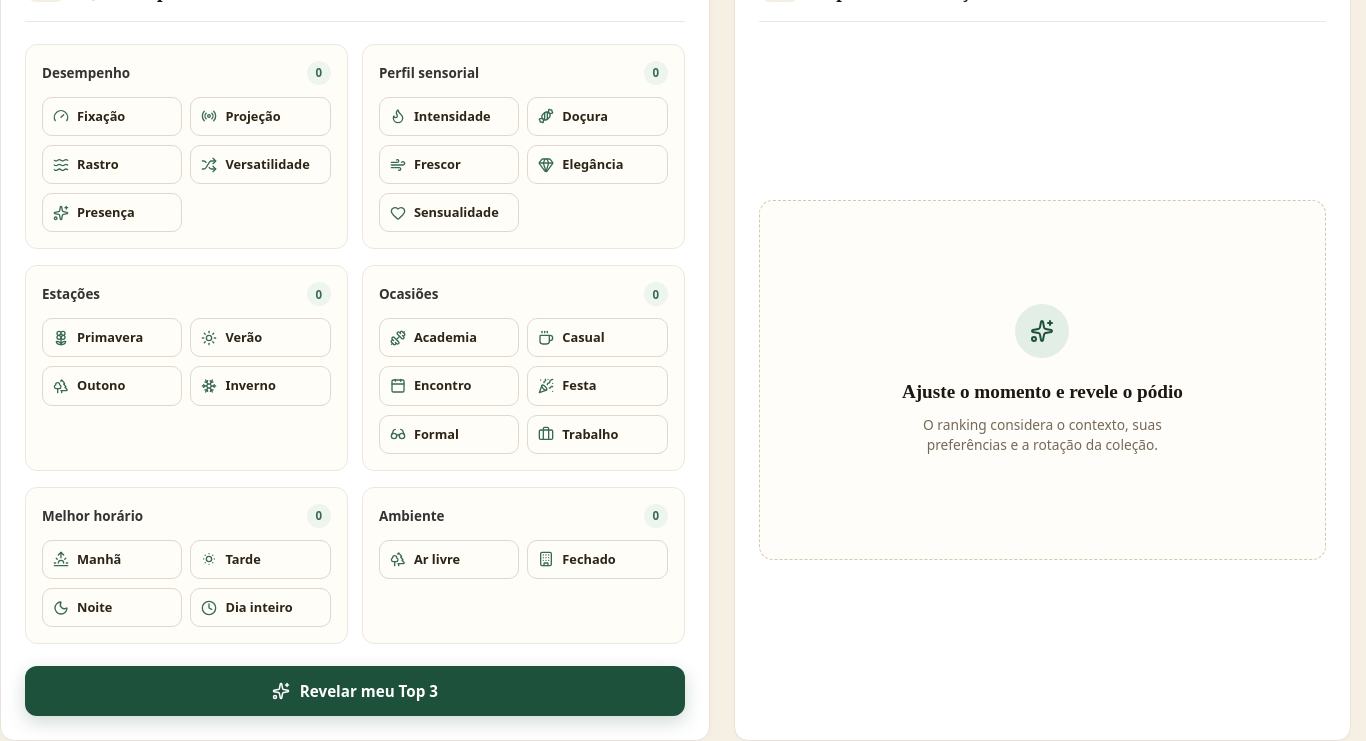
Test: RecommenderView › orients the user when automatic context is active without a successful update
The width and height of the screenshot is (1366, 741).
(page scrolled)
Click the button "Revelar meu Top 3" at coordinates (355, 691), box [25,666,685,716]
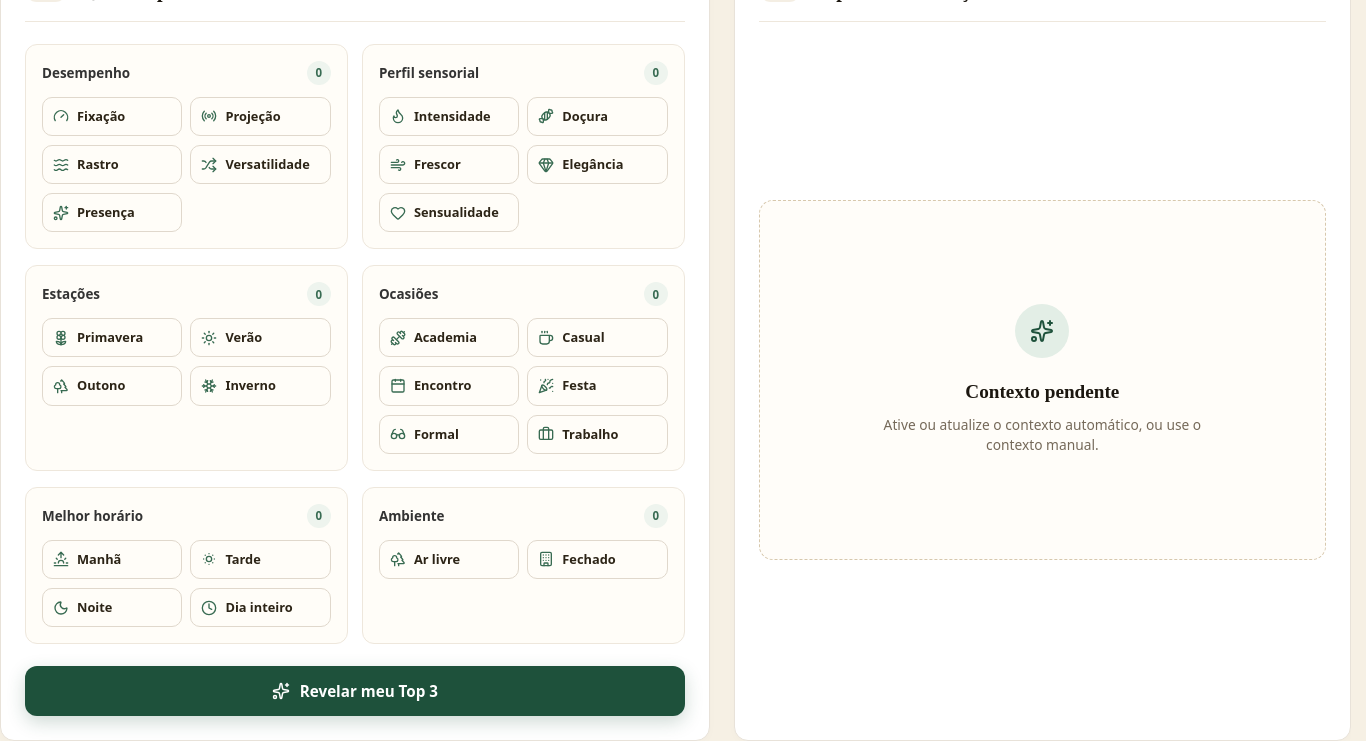
Check: the heading "Contexto pendente" is shown, box [965,378,1119,407]
